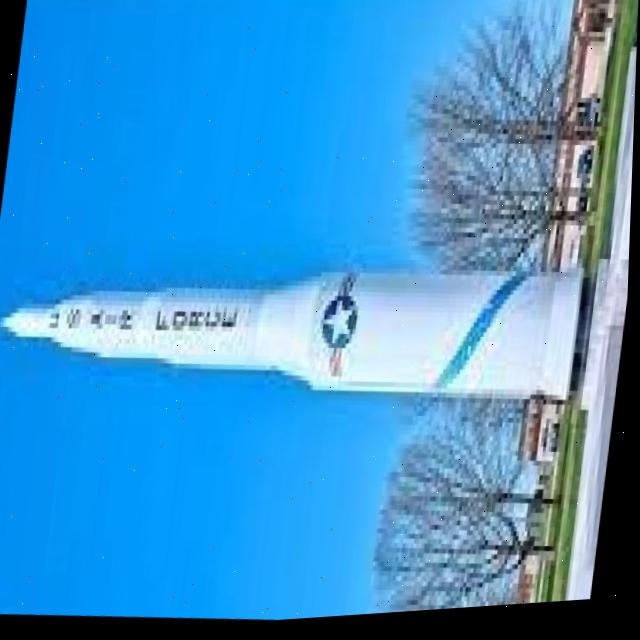missile: (0, 221, 590, 436)
